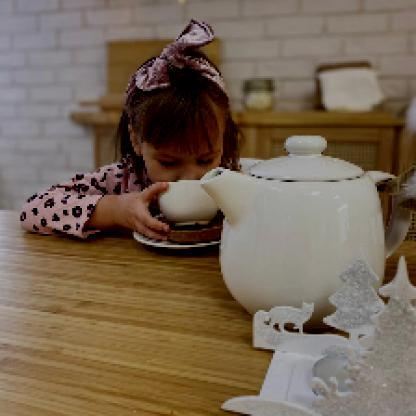child: (20, 53, 241, 242)
